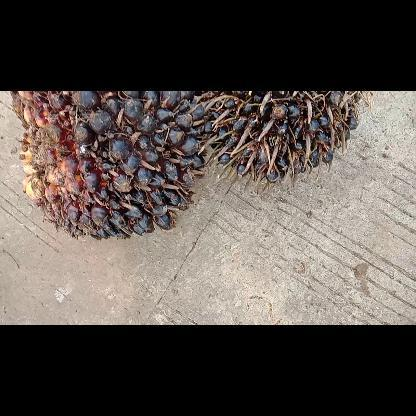TBS mentah: (6, 90, 214, 246), (200, 91, 366, 190)
